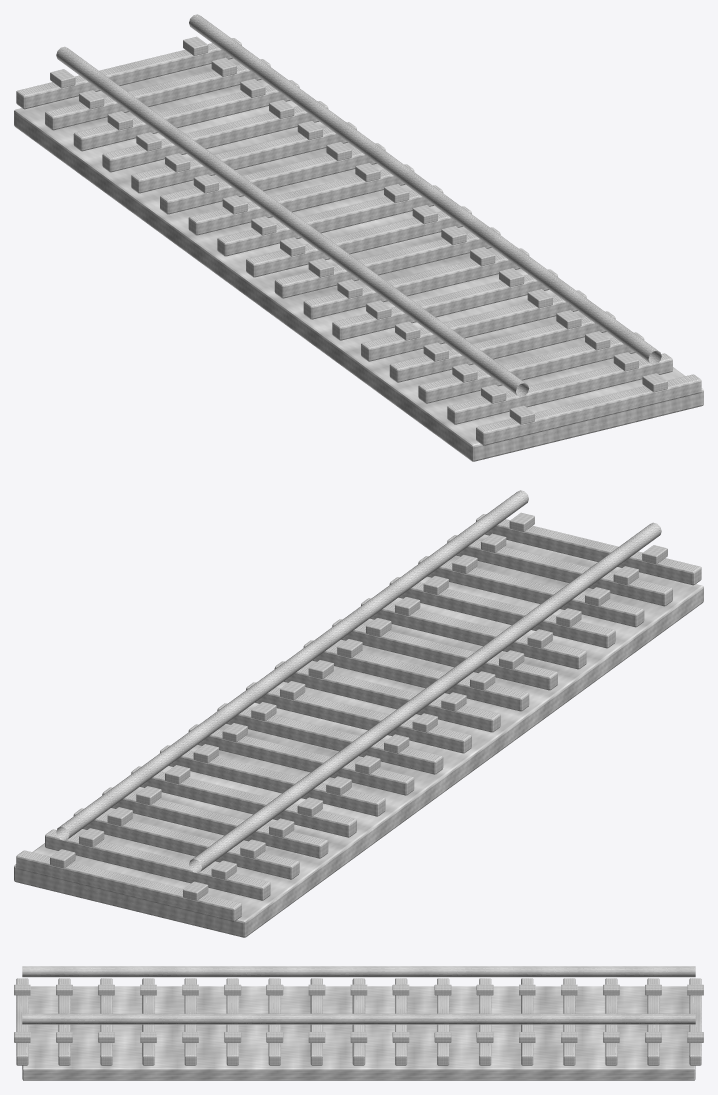
The model's file is railway_variant_a.glb.
3 views of the same model, one above another, from view 1: azimuth 30°, elevation 25°; view 2: azimuth 150°, elevation 25°; view 3: azimuth 270°, elevation 25° (orthographic). The views are drawn at different scales.
Parts seen in each view (by area): view 1: Track base, Right rail, Left rail, Rail sleeper, Rail sleeper.001, Rail sleeper.003, Rail sleeper.006, Rail sleeper.002, Rail sleeper.007, Rail sleeper.010, Rail sleeper.014, Rail sleeper.005 (+8 smaller); view 2: Track base, Right rail, Left rail, Rail sleeper.016, Rail sleeper.015, Rail sleeper.010, Rail sleeper.013, Rail sleeper.014, Rail sleeper.009, Rail sleeper.006, Rail sleeper.002, Rail sleeper.003 (+8 smaller); view 3: Track base, Left rail, Right rail, Rail sleeper, Rail sleeper.016, Rail sleeper.008, Rail sleeper.003, Rail sleeper.005, Rail sleeper.006, Rail sleeper.010, Rail sleeper.011, Rail sleeper.013 (+15 smaller).
Boxes of the visible parts, x1=… form: Track base: x1=14, y1=58, x2=703, y2=461; Right rail: x1=189, y1=14, x2=661, y2=364; Left rail: x1=56, y1=46, x2=528, y2=397; Rail sleeper: x1=476, y1=374, x2=701, y2=445; Rail sleeper.001: x1=447, y1=353, x2=672, y2=424; Rail sleeper.003: x1=389, y1=311, x2=615, y2=382; Rail sleeper.006: x1=303, y1=248, x2=529, y2=319; Rail sleeper.002: x1=418, y1=332, x2=644, y2=403; Rail sleeper.007: x1=274, y1=227, x2=500, y2=298; Rail sleeper.010: x1=188, y1=164, x2=414, y2=235; Rail sleeper.014: x1=73, y1=80, x2=299, y2=151; Rail sleeper.005: x1=332, y1=269, x2=557, y2=340; Track base: x1=14, y1=534, x2=703, y2=937; Right rail: x1=56, y1=490, x2=528, y2=840; Left rail: x1=189, y1=522, x2=661, y2=873; Rail sleeper.016: x1=16, y1=850, x2=241, y2=921; Rail sleeper.015: x1=45, y1=829, x2=270, y2=900; Rail sleeper.010: x1=188, y1=724, x2=414, y2=795; Rail sleeper.013: x1=102, y1=787, x2=328, y2=858; Rail sleeper.014: x1=73, y1=808, x2=299, y2=879; Rail sleeper.009: x1=217, y1=703, x2=443, y2=774; Rail sleeper.006: x1=303, y1=640, x2=529, y2=711; Rail sleeper.002: x1=418, y1=556, x2=644, y2=627; Rail sleeper.003: x1=389, y1=577, x2=615, y2=648; Track base: x1=22, y1=986, x2=695, y2=1080; Left rail: x1=22, y1=966, x2=695, y2=977; Right rail: x1=22, y1=1013, x2=695, y2=1024; Rail sleeper: x1=16, y1=978, x2=28, y2=1065; Rail sleeper.016: x1=689, y1=978, x2=701, y2=1065; Rail sleeper.008: x1=352, y1=978, x2=365, y2=1065; Rail sleeper.003: x1=142, y1=978, x2=154, y2=1065; Rail sleeper.005: x1=226, y1=978, x2=238, y2=1065; Rail sleeper.006: x1=268, y1=978, x2=280, y2=1065; Rail sleeper.010: x1=437, y1=978, x2=449, y2=1065; Rail sleeper.011: x1=479, y1=978, x2=491, y2=1065; Rail sleeper.013: x1=563, y1=978, x2=575, y2=1065.
Bounding box in the file's own units: 3.5 × 0.9701 × 12.3.
Materials: 3 (3 with a texture image).
